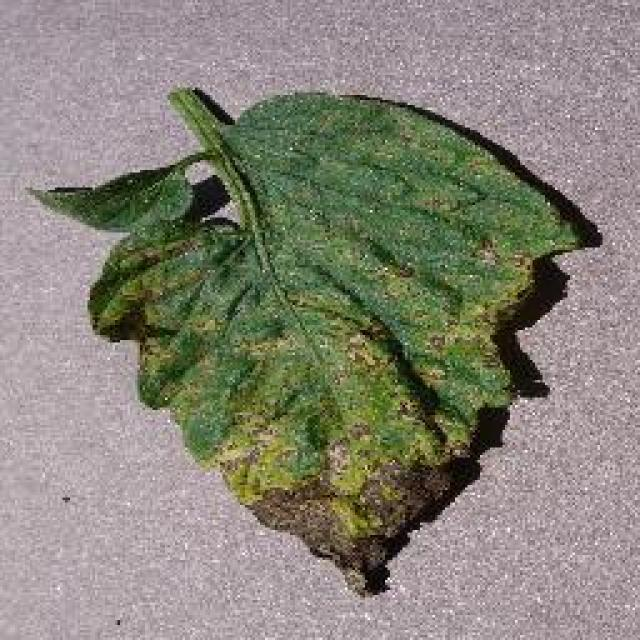Tomato___Septoria_leaf_spot: (35, 88, 590, 592)
